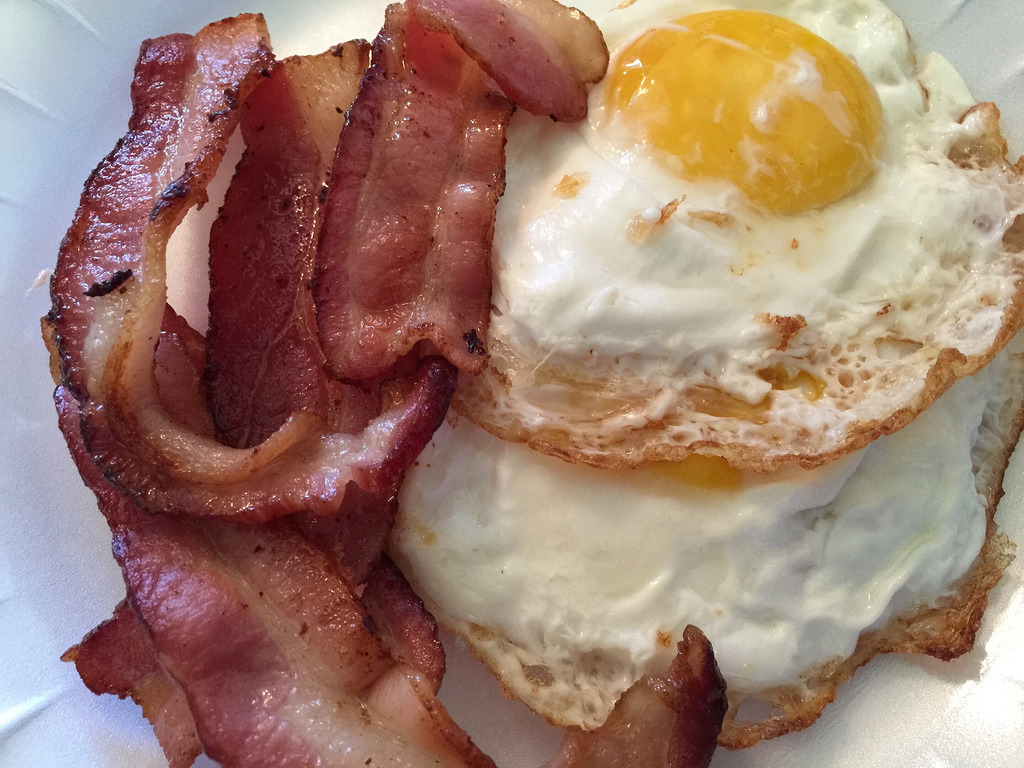fried egg: (450, 4, 1017, 428), (393, 399, 966, 694)
